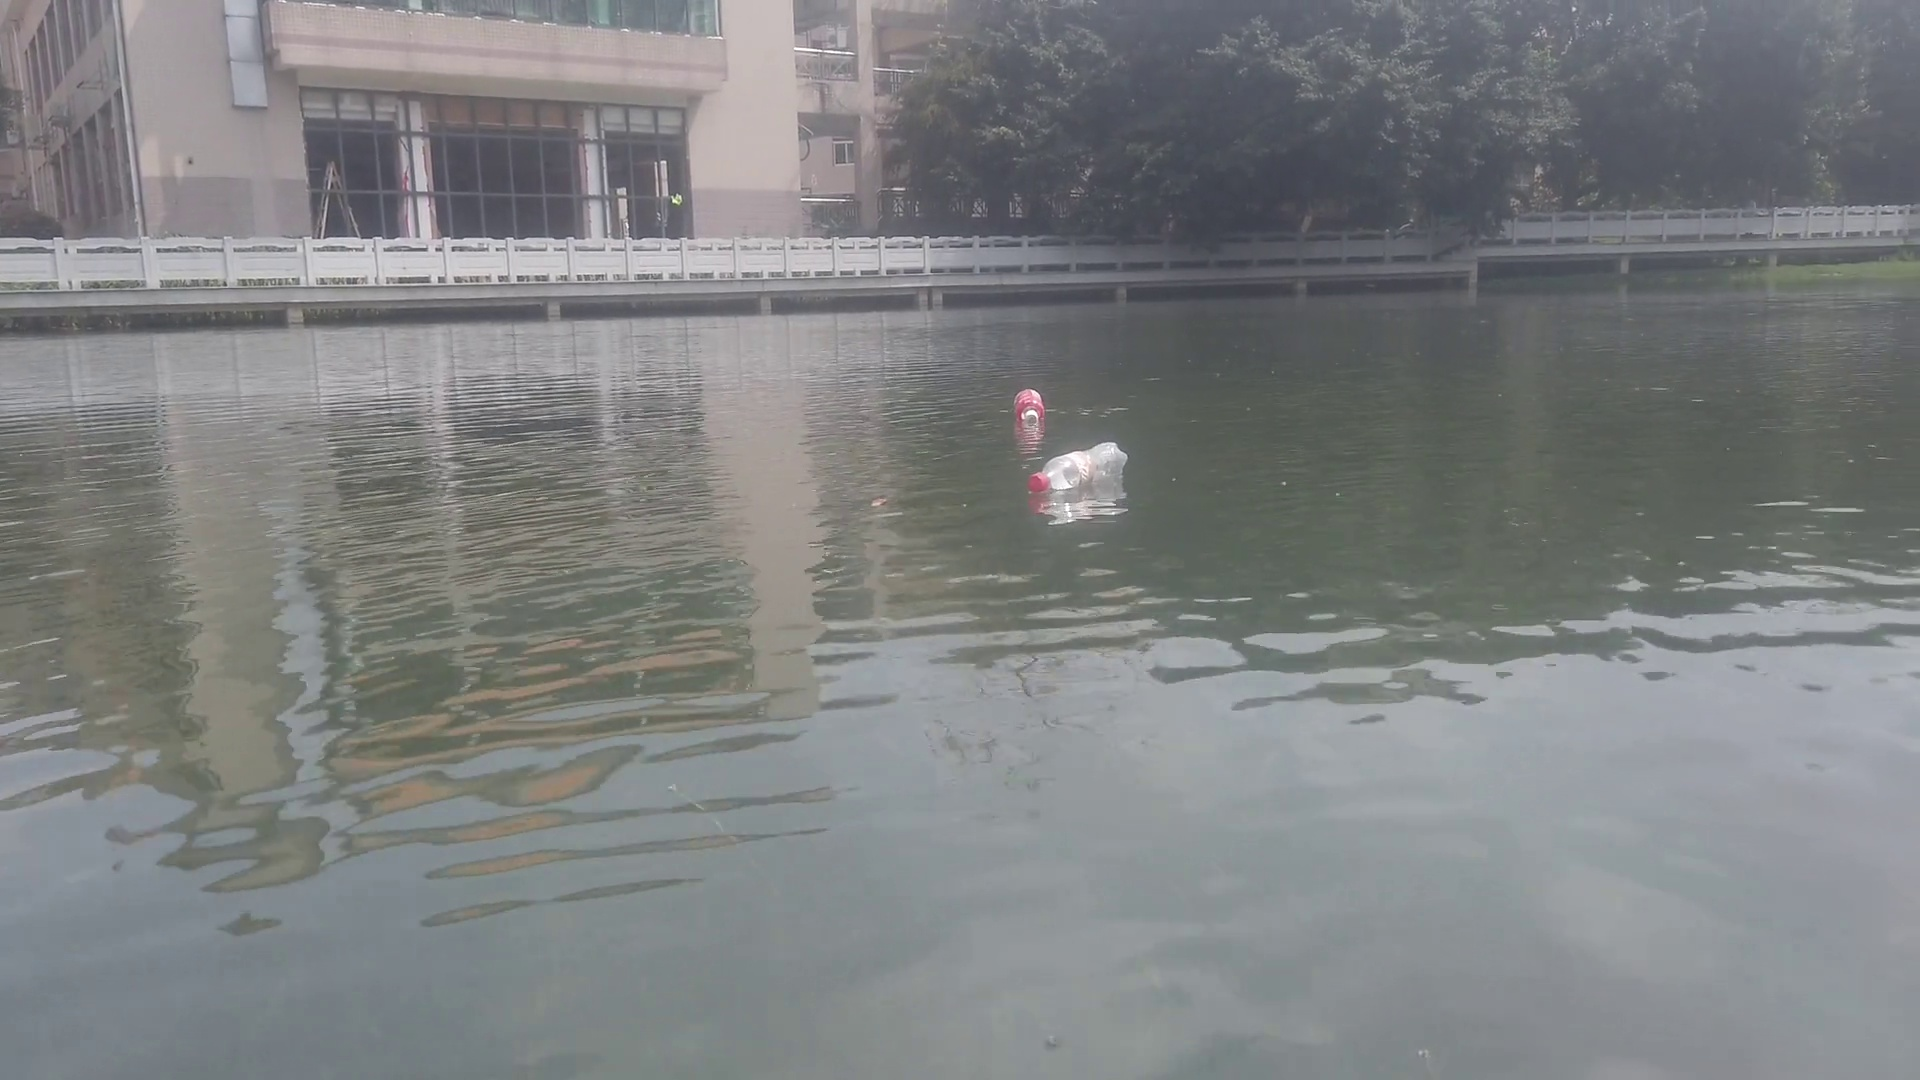bottle: (1033, 442, 1131, 493), (1013, 388, 1044, 426)
